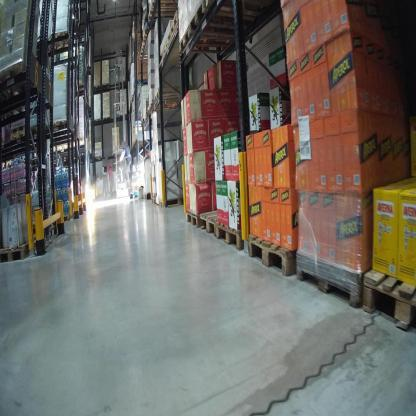pallets: (0, 210, 74, 267), (359, 269, 415, 335), (295, 267, 361, 309), (185, 209, 243, 252)
